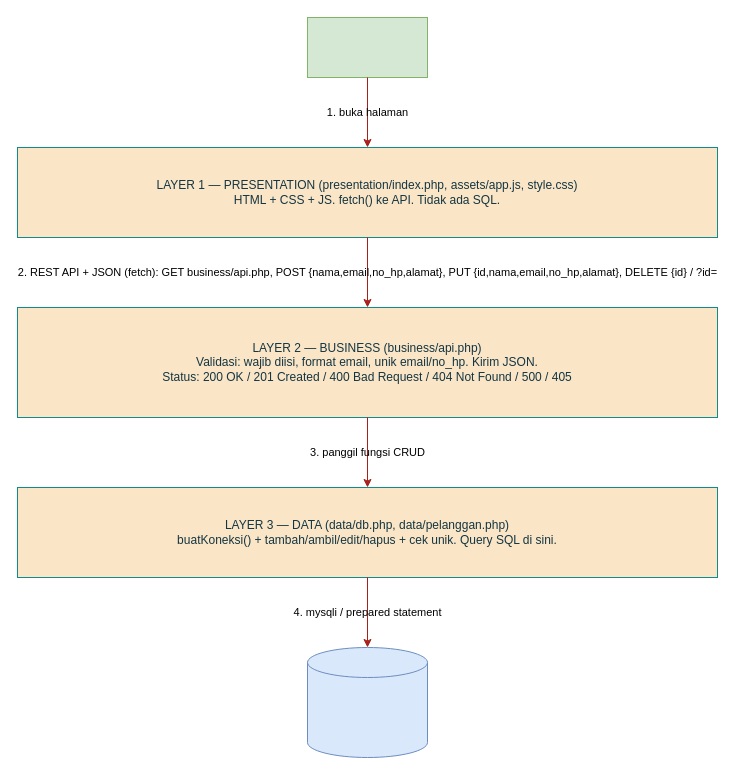
This 735x775 diagram has some shape labels left out. The centre of each missing label's shape, as x and y in pixels:
"MySQL db_customer" belongs at [367,702].
"User" belongs at [367,47].
